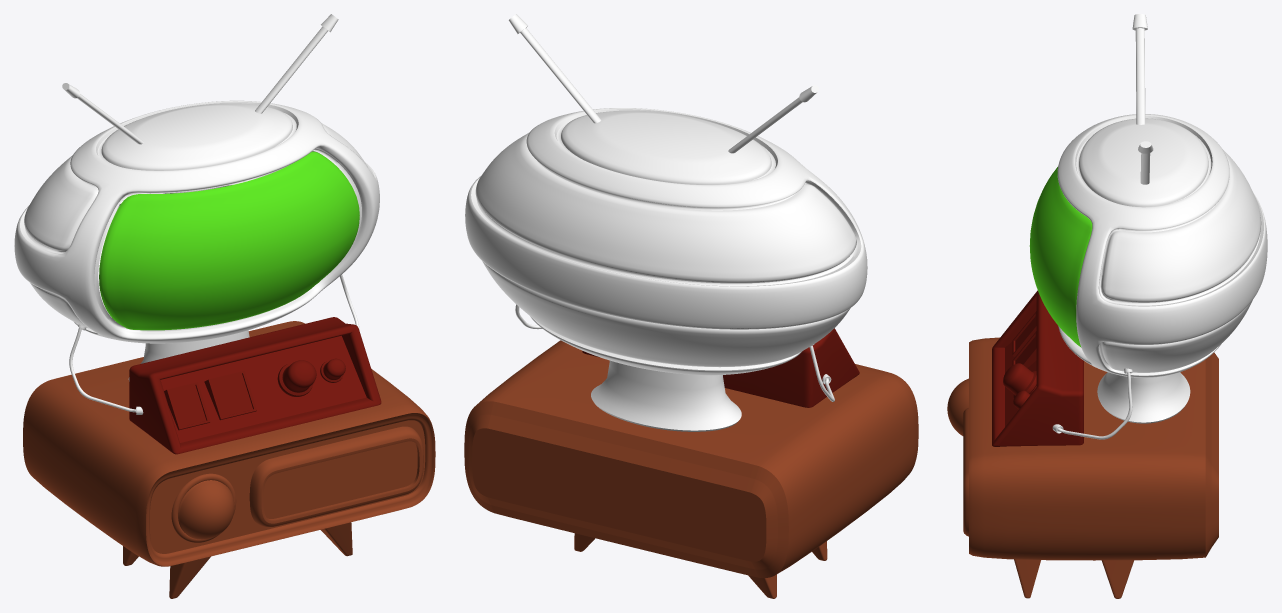
Rendered from Tele.fbx.
The picture shows the model from 3 angles, left to right: view 1: azimuth 30°, elevation 25°; view 2: azimuth 150°, elevation 25°; view 3: azimuth 270°, elevation 25°; orthographic projection. The views are drawn at different scales.
Parts seen in each view (by area): view 1: Sphere004, Box040, Object015, Box043, Box042, Sphere006, Cylinder055, Cylinder056, Cylinder057; view 2: Sphere004, Box040, Box043, Cylinder056, Cylinder057; view 3: Sphere004, Box040, Box043, Object015, Cylinder057, Sphere006, Cylinder055, Box042, Line030, Cylinder056.
Part boxes in pixels (x1,y1,x2,y2): Sphere004: (14, 100, 379, 381); Box040: (23, 321, 435, 598); Object015: (99, 151, 359, 330); Box043: (129, 317, 381, 454); Box042: (249, 426, 423, 526); Sphere006: (171, 473, 236, 542); Cylinder055: (277, 360, 316, 396); Cylinder056: (255, 14, 338, 113); Cylinder057: (62, 83, 143, 144); Sphere004: (465, 108, 867, 431); Box040: (464, 340, 918, 598); Box043: (582, 328, 859, 407); Cylinder056: (508, 14, 601, 123); Cylinder057: (728, 85, 818, 153); Sphere004: (1057, 114, 1267, 423); Box040: (969, 337, 1218, 598); Box043: (992, 290, 1083, 446); Object015: (1029, 167, 1092, 347); Cylinder057: (1132, 14, 1147, 124); Sphere006: (947, 378, 968, 435); Cylinder055: (1003, 363, 1036, 397); Box042: (963, 408, 968, 536); Line030: (1057, 372, 1132, 439); Cylinder056: (1138, 141, 1153, 184).
Bounding box in the file's own units: 40.37 × 54.64 × 33.21.
